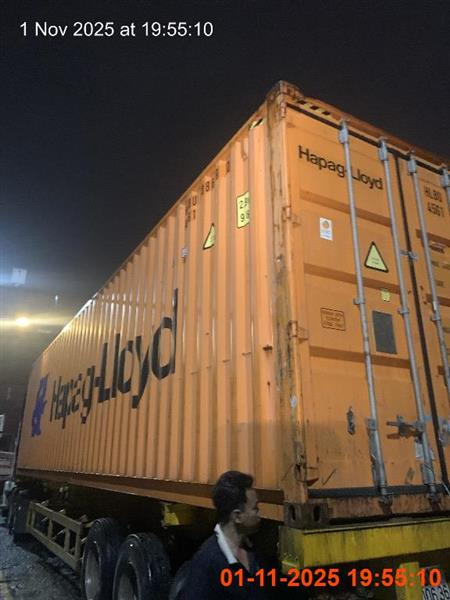bent: (2, 82, 449, 599), (172, 470, 271, 599)
